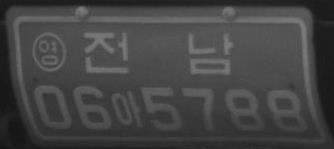0: (32, 83, 71, 131)
5: (143, 85, 184, 134)
6: (72, 85, 112, 132)
7: (184, 86, 219, 132)
8: (223, 87, 266, 136), (266, 88, 309, 135)
아: (112, 88, 144, 129)
영: (31, 32, 66, 72)
전남_D: (82, 31, 232, 75)
